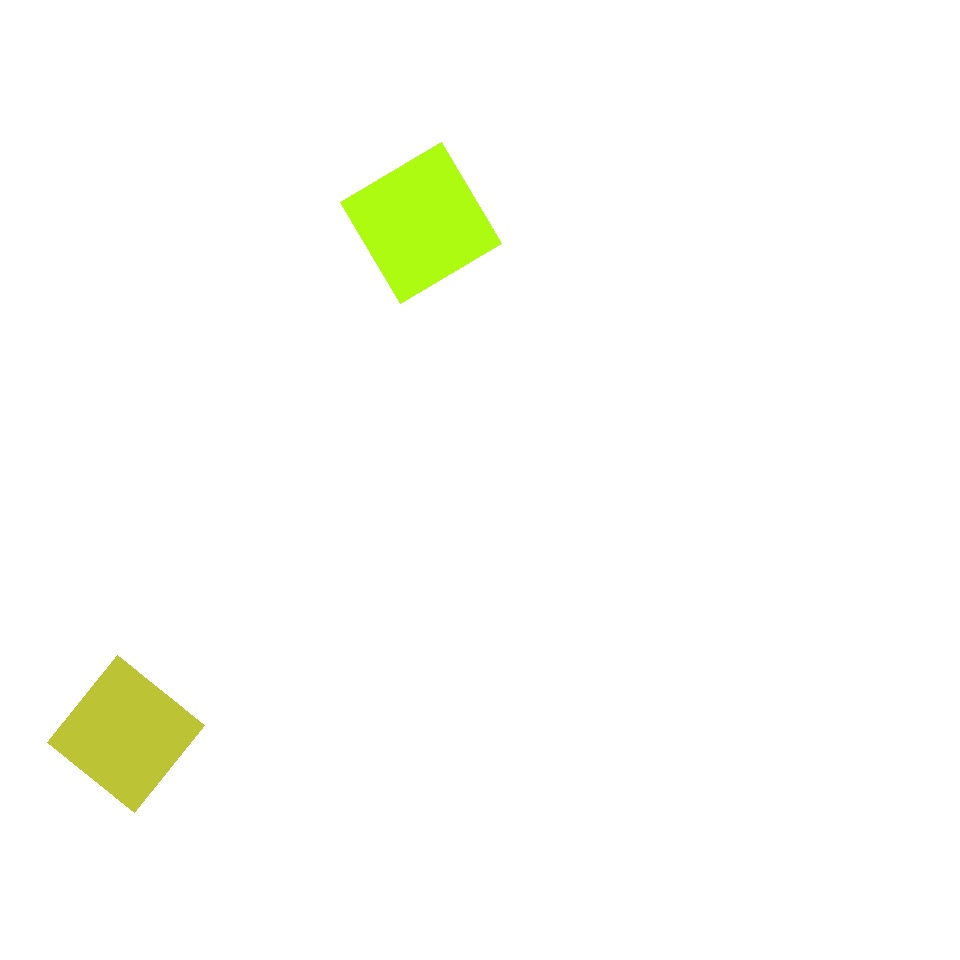circle: (470, 433, 772, 757), (500, 447, 752, 681)
square: (340, 142, 501, 304), (48, 655, 204, 812)
triangle: (186, 466, 540, 818), (79, 150, 345, 416)
